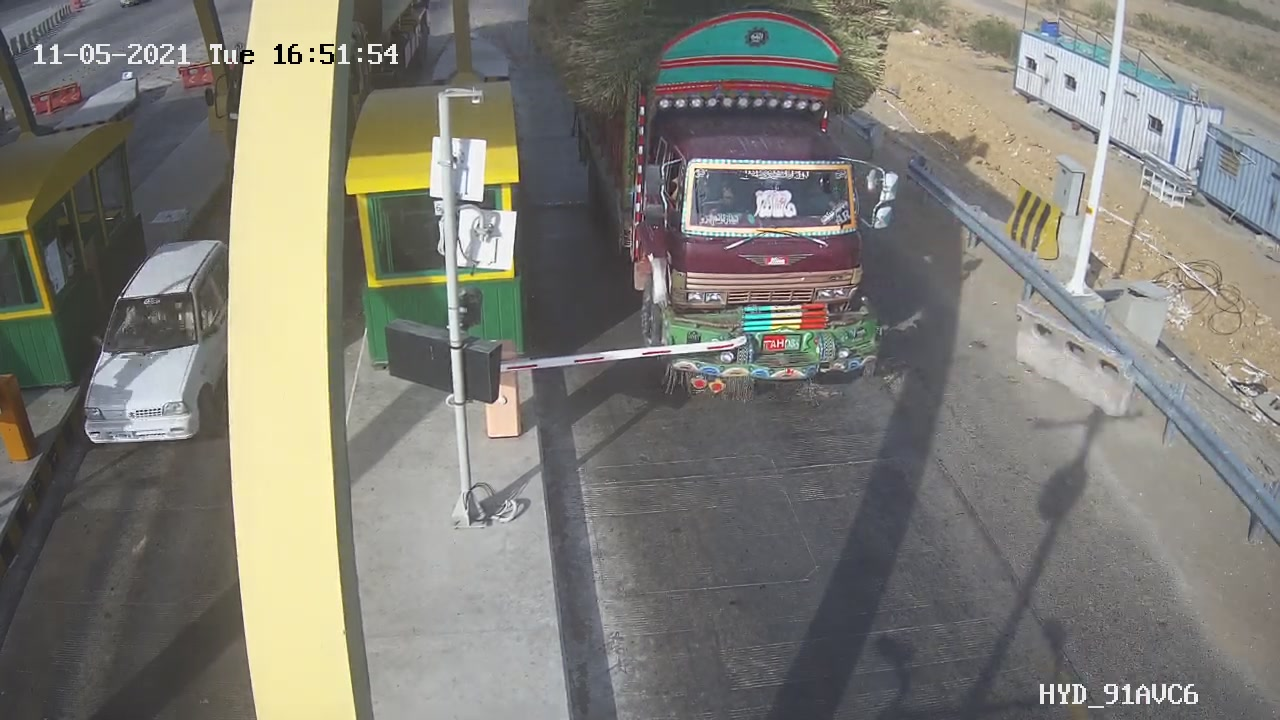F5: (551, 4, 943, 426)
